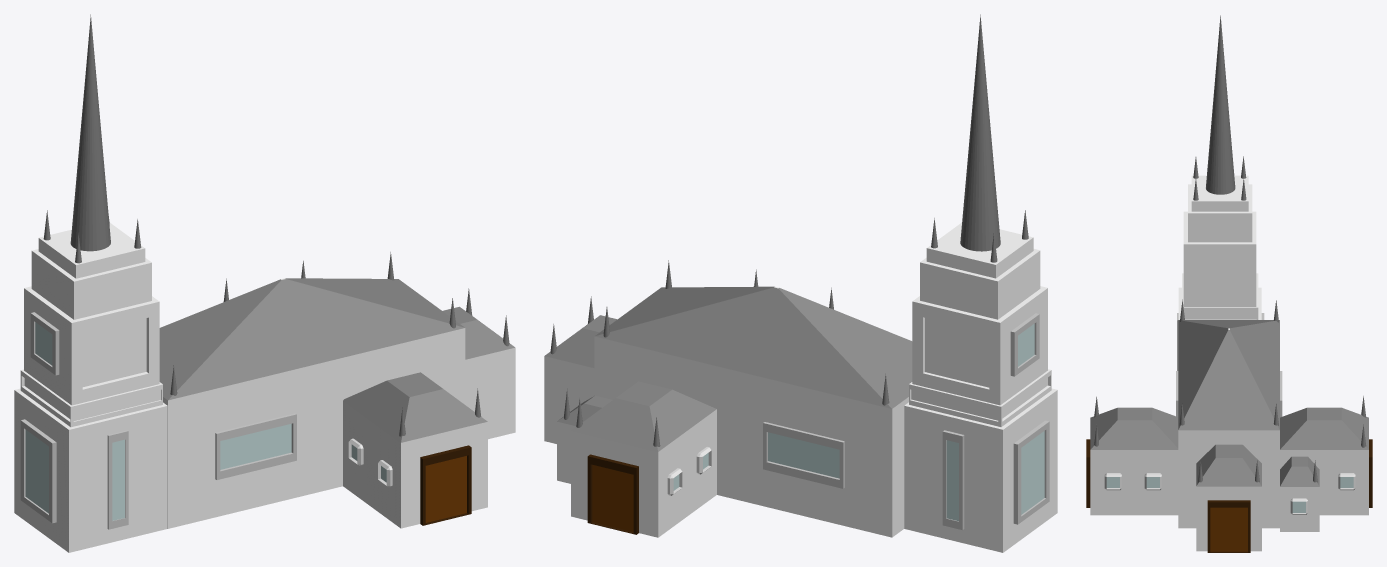
File: Church.fbx
3 views of the same model, side by side, from view 1: azimuth 30°, elevation 25°; view 2: azimuth 150°, elevation 25°; view 3: azimuth 270°, elevation 25° (orthographic). The views are drawn at different scales.
Parts seen in each view (by area): view 1: Cube, Cube.004, Cube.003, Cube.002, Cone, Cube.008, Cube.011; view 2: Cube, Cube.004, Cube.003, Cube.002, Cone, Cube.008, Cube.005, Cube.011; view 3: Cube.003, Cube, Cube.004, Cone, Cube.008, Cube.005, Cube.011, Cube.002.
Boxes of the visible parts, x1,y1,x2,y2 form: Cube: (159, 278, 465, 528); Cube.004: (14, 222, 167, 552); Cube.003: (343, 306, 515, 528); Cube.002: (20, 312, 296, 529); Cone: (43, 14, 509, 436); Cube.008: (420, 445, 471, 525); Cube.011: (348, 438, 392, 487); Cube: (594, 286, 912, 537); Cube.004: (904, 222, 1057, 552); Cube.003: (544, 315, 716, 537); Cube.002: (763, 313, 1049, 529); Cone: (550, 14, 1028, 446); Cube.008: (587, 454, 638, 534); Cube.005: (557, 395, 612, 483); Cube.011: (667, 447, 711, 495); Cube.003: (1090, 407, 1368, 551); Cube: (1178, 320, 1279, 528); Cube.004: (1178, 175, 1261, 319); Cone: (1094, 15, 1366, 482); Cube.008: (1086, 439, 1372, 552); Cube.005: (1280, 456, 1319, 531); Cube.011: (1104, 473, 1355, 514); Cube.002: (1176, 313, 1282, 417).
Bounding box in the file's own units: 4699 × 4871 × 3282.
